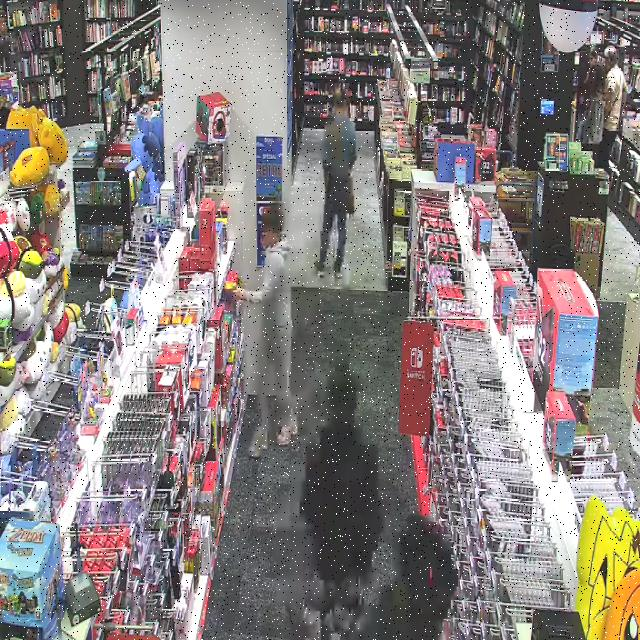article: (224, 270, 247, 317)
bags: (323, 154, 358, 217)
hands: (232, 286, 244, 301)
person: (289, 360, 382, 639), (235, 207, 297, 457), (315, 87, 356, 278)
